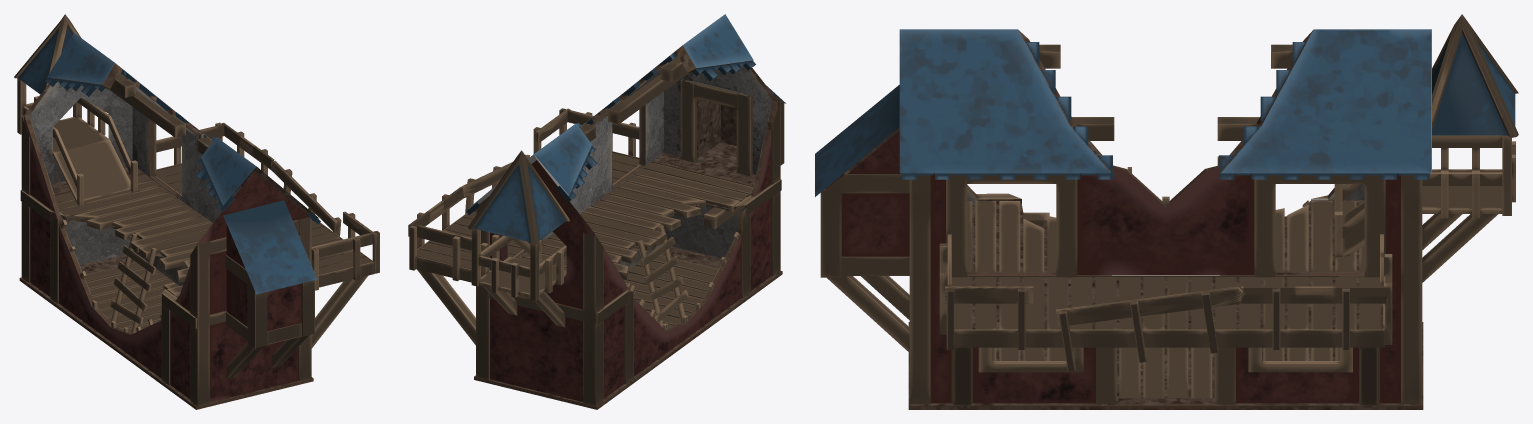
File: RuinedHouse1.glb
3 renders of one model, left to right at view 1: azimuth 30°, elevation 25°; view 2: azimuth 150°, elevation 25°; view 3: azimuth 270°, elevation 25°, orthographic. The views are drawn at different scales.
Visible parts, largest first — view 1: CasaDestruida1; view 2: CasaDestruida1; view 3: CasaDestruida1.
Boxes of the visible parts, bbox=[...] form: CasaDestruida1: bbox=[14, 14, 379, 409]; CasaDestruida1: bbox=[408, 14, 785, 409]; CasaDestruida1: bbox=[815, 14, 1518, 409].
Size of the model in its own units: 13.79 by 16.34 by 29.3.
1 material, 1 textured.
